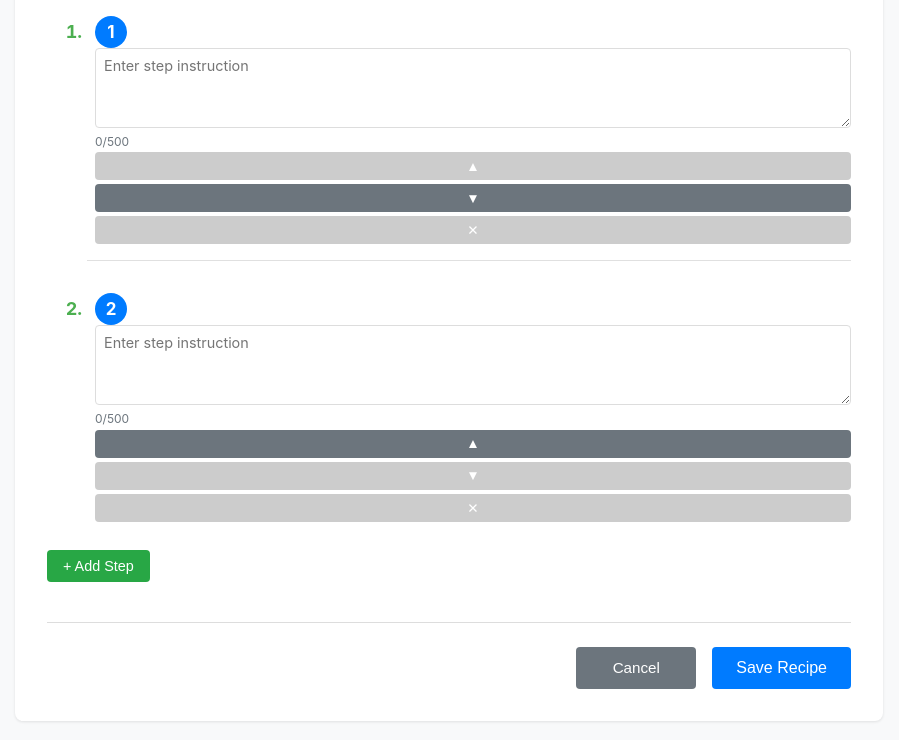
Test case: CreateRecipeView › Steps Section › adds a new step when Add Step is clicked
The width and height of the screenshot is (899, 740).
(page scrolled)
expect the number of text boxes with placeholder "Enter step instruction" is 2: met, box 95,48 -> 851,128; 95,325 -> 851,405
Click the button "+ Add Step": (98, 566) 47,550 -> 150,582
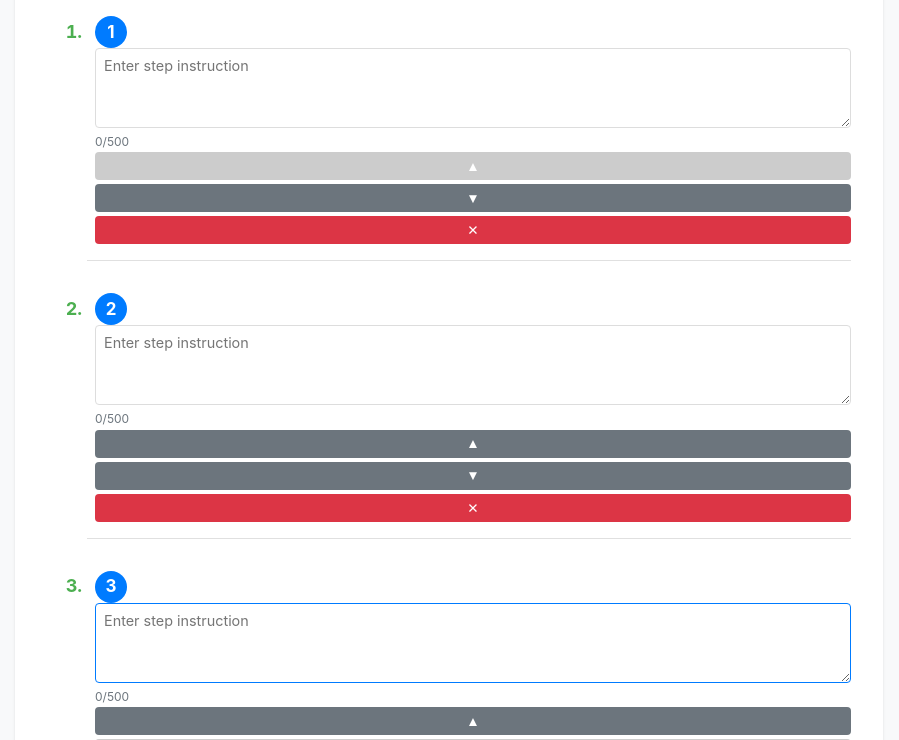
expect the number of text boxes with placeholder "Enter step instruction" is 3: met, box 95,48 -> 851,128; 95,325 -> 851,405; 95,603 -> 851,683
